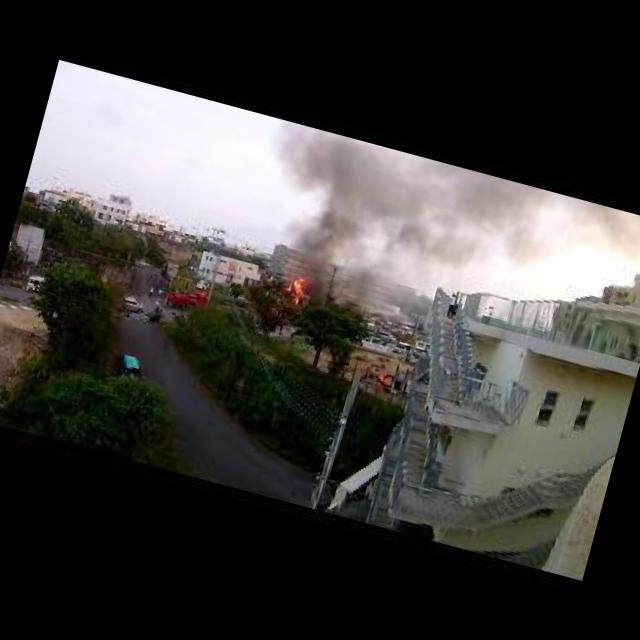fire: (279, 271, 306, 304)
smoke: (261, 120, 613, 297), (260, 192, 391, 298)
